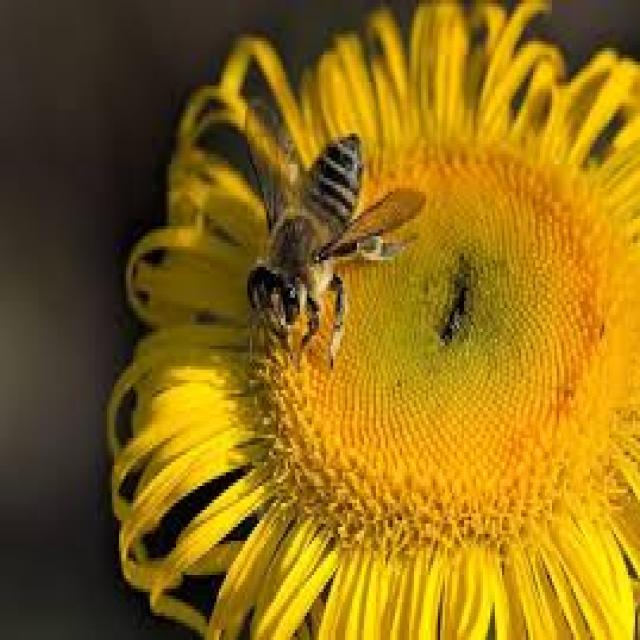Bees: (242, 95, 425, 368)
